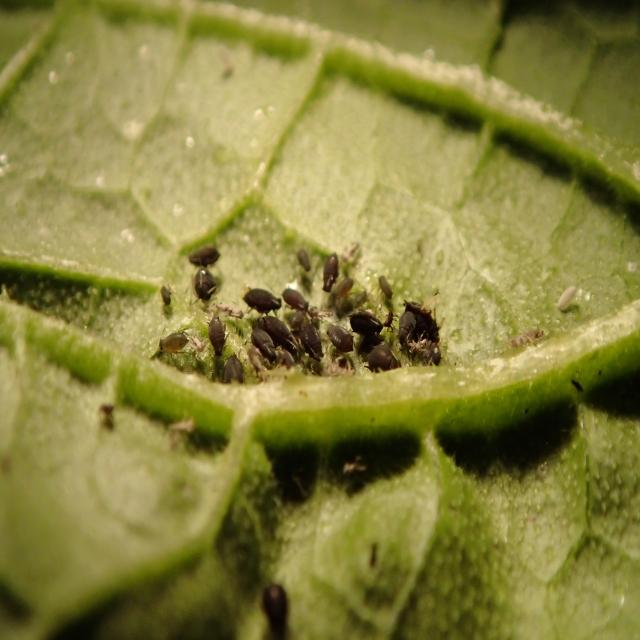Aphid-Grouped-: (144, 242, 456, 398)
Aphid-Grown-: (238, 284, 287, 319), (200, 312, 232, 354), (157, 323, 193, 360), (324, 321, 356, 355)
